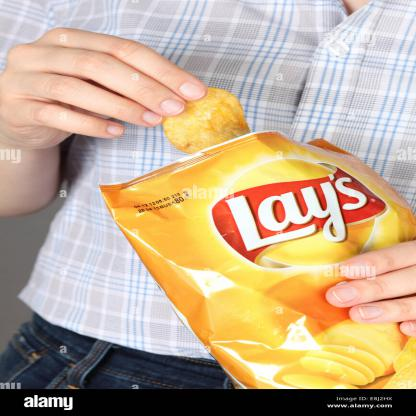potatochip: (77, 123, 416, 416)
